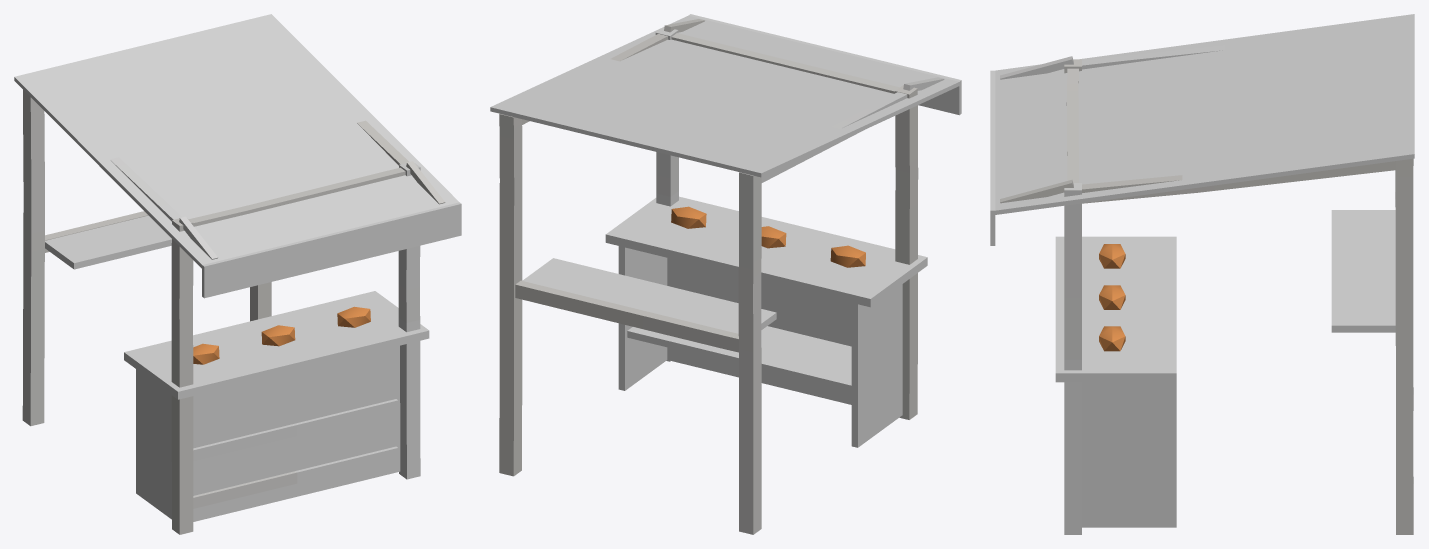
The model's file is Kit_RealStall_StallB_Fractured.fbx.
3 views of the same model, side by side, from view 1: azimuth 30°, elevation 25°; view 2: azimuth 150°, elevation 25°; view 3: azimuth 270°, elevation 25° (orthographic). The views are drawn at different scales.
Visible parts, largest first — view 1: Kit_RealStall_StallB_frag_07, Kit_RealStall_StallB_frag_08, Kit_RealStall_StallB_frag_09, Kit_RealStall_StallB_frag_01, Kit_RealStall_StallB_frag_02, Kit_RealStall_StallB_frag_05, Kit_RealStall_StallB_frag_10, Kit_RealStall_StallB_frag_03, Kit_RealStall_StallB_frag_04, Kit_RealStall_StallB_frag_06; view 2: Kit_RealStall_StallB_frag_01, Kit_RealStall_StallB_frag_07, Kit_RealStall_StallB_frag_09, Kit_RealStall_StallB_frag_05, Kit_RealStall_StallB_frag_08, Kit_RealStall_StallB_frag_10, Kit_RealStall_StallB_frag_06, Kit_RealStall_StallB_frag_02, Kit_RealStall_StallB_frag_03, Kit_RealStall_StallB_frag_04; view 3: Kit_RealStall_StallB_frag_09, Kit_RealStall_StallB_frag_08, Kit_RealStall_StallB_frag_02, Kit_RealStall_StallB_frag_07, Kit_RealStall_StallB_frag_10, Kit_RealStall_StallB_frag_04, Kit_RealStall_StallB_frag_06, Kit_RealStall_StallB_frag_03, Kit_RealStall_StallB_frag_05.
Boxes of the visible parts, x1,y1,x2,y2 form: Kit_RealStall_StallB_frag_07: [107, 138, 334, 378]; Kit_RealStall_StallB_frag_08: [238, 107, 461, 322]; Kit_RealStall_StallB_frag_09: [14, 34, 282, 173]; Kit_RealStall_StallB_frag_01: [136, 369, 297, 534]; Kit_RealStall_StallB_frag_02: [295, 318, 420, 496]; Kit_RealStall_StallB_frag_05: [22, 90, 171, 426]; Kit_RealStall_StallB_frag_10: [190, 14, 363, 126]; Kit_RealStall_StallB_frag_03: [124, 321, 305, 399]; Kit_RealStall_StallB_frag_04: [252, 291, 429, 368]; Kit_RealStall_StallB_frag_06: [250, 282, 271, 321]; Kit_RealStall_StallB_frag_01: [738, 249, 917, 447]; Kit_RealStall_StallB_frag_07: [722, 46, 961, 255]; Kit_RealStall_StallB_frag_09: [576, 83, 859, 182]; Kit_RealStall_StallB_frag_05: [625, 172, 776, 534]; Kit_RealStall_StallB_frag_08: [588, 14, 823, 196]; Kit_RealStall_StallB_frag_10: [490, 62, 673, 294]; Kit_RealStall_StallB_frag_06: [499, 258, 662, 476]; Kit_RealStall_StallB_frag_02: [618, 191, 778, 390]; Kit_RealStall_StallB_frag_03: [736, 224, 927, 307]; Kit_RealStall_StallB_frag_04: [605, 196, 792, 274]; Kit_RealStall_StallB_frag_09: [1207, 14, 1414, 137]; Kit_RealStall_StallB_frag_08: [990, 113, 1241, 359]; Kit_RealStall_StallB_frag_02: [1064, 360, 1176, 534]; Kit_RealStall_StallB_frag_07: [990, 42, 1224, 141]; Kit_RealStall_StallB_frag_10: [1207, 109, 1414, 342]; Kit_RealStall_StallB_frag_04: [1055, 306, 1176, 382]; Kit_RealStall_StallB_frag_06: [1331, 269, 1413, 534]; Kit_RealStall_StallB_frag_03: [1055, 236, 1176, 309]; Kit_RealStall_StallB_frag_05: [1331, 170, 1413, 410].
Size of what is drawn, in the model's own units: 1.7 by 2.18 by 2.17.
